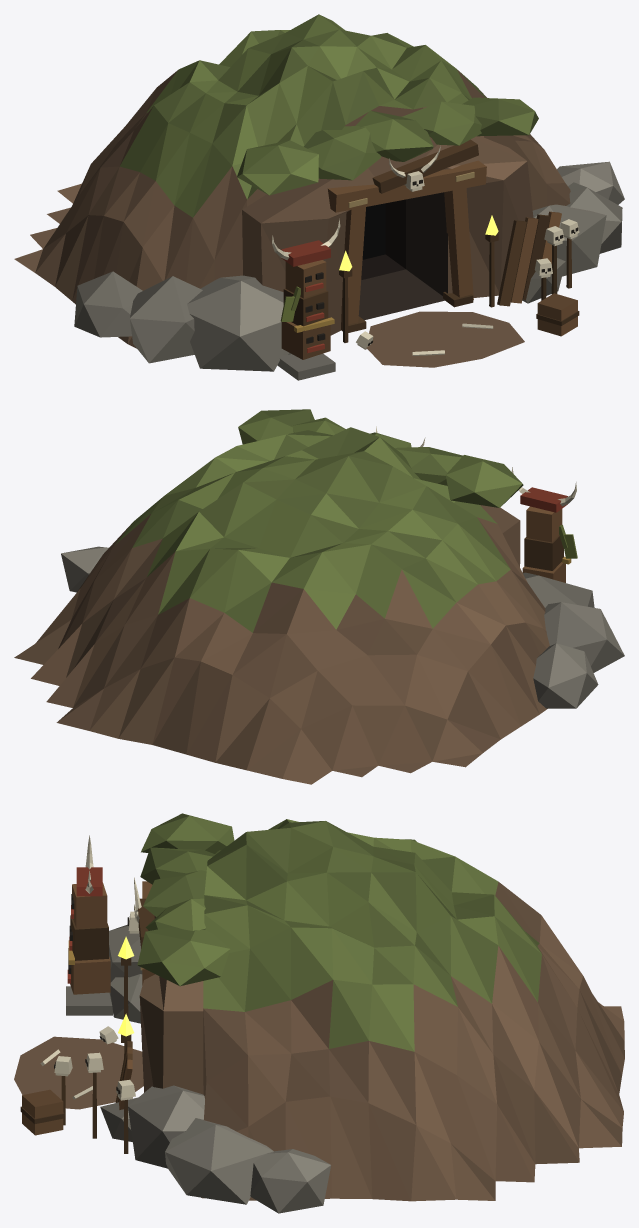
Rendered from goblin_cave.glb.
3 renders of one model, top to bottom at view 1: azimuth 30°, elevation 25°; view 2: azimuth 150°, elevation 25°; view 3: azimuth 270°, elevation 25°, orthographic. The views are drawn at different scales.
Parts seen in each view (by area): view 1: goblin_cave; view 2: goblin_cave; view 3: goblin_cave.
Part boxes in pixels (left/top/right/bottom): goblin_cave: left=14, top=14, right=624, bottom=380; goblin_cave: left=14, top=409, right=624, bottom=784; goblin_cave: left=14, top=813, right=624, bottom=1213.
Bounding box in the file's own units: 12.92 × 5.03 × 11.72.
